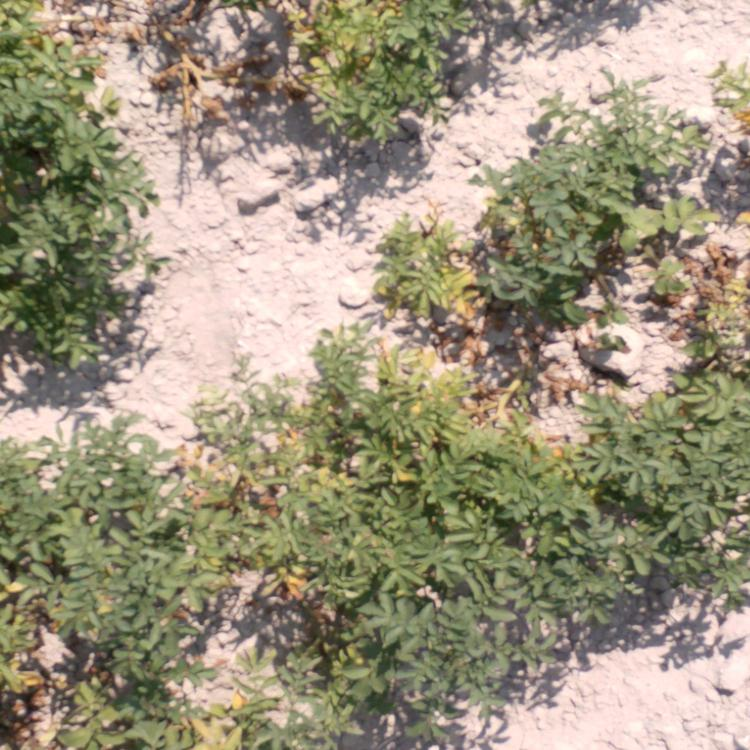healthy: (1, 1, 132, 367), (477, 121, 605, 310), (669, 402, 750, 582), (607, 86, 697, 240)
stressed: (1, 421, 201, 750), (361, 341, 513, 742), (210, 342, 358, 605), (526, 404, 662, 672), (269, 1, 490, 133), (371, 202, 468, 330), (657, 246, 739, 390), (204, 677, 344, 748), (158, 23, 205, 99)
